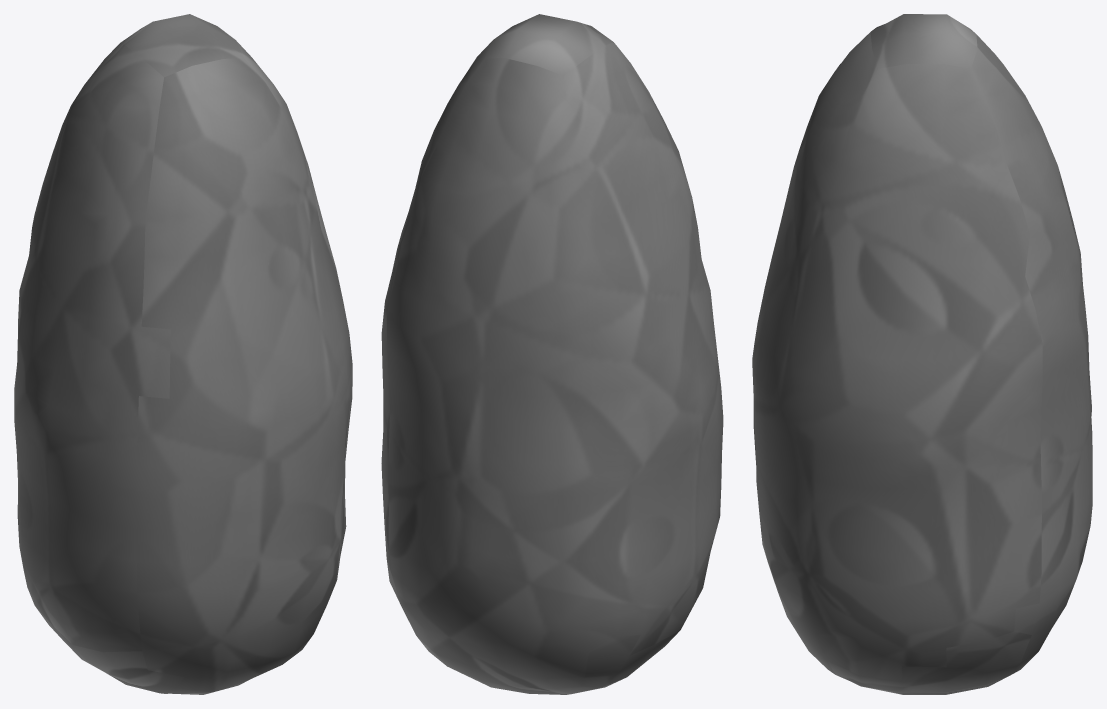
File: m_EggBlue_LOD0.fbx
The picture shows the model from 3 angles, left to right: view 1: azimuth 30°, elevation 25°; view 2: azimuth 150°, elevation 25°; view 3: azimuth 270°, elevation 25°; orthographic projection.
Visible parts, largest first — view 1: EggBlue_LOD0; view 2: EggBlue_LOD0; view 3: EggBlue_LOD0.
Boxes of the visible parts, x1,y1,x2,y2 form: EggBlue_LOD0: (14, 14, 352, 694); EggBlue_LOD0: (381, 14, 723, 694); EggBlue_LOD0: (752, 14, 1092, 694).
Size of the model in its own units: 3749 by 7983 by 3775.
